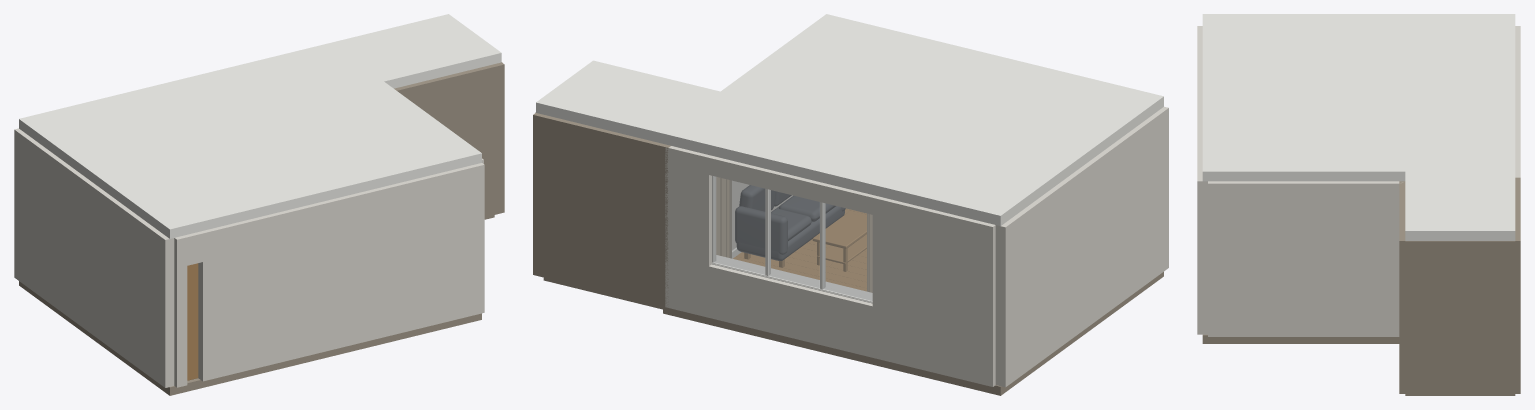
File: homestay.glb
3 renders of one model, left to right at view 1: azimuth 30°, elevation 25°; view 2: azimuth 150°, elevation 25°; view 3: azimuth 270°, elevation 25°, orthographic. The views are drawn at different scales.
Visible parts, largest first — view 1: SM_Ceiling_Main, SM_Wall_South_Main, SM_Wall_West, SM_Ceiling_Bath, SM_Bath_Side_Wall, SM_Subfloor, SM_Wall_South_Door_Left, SM_Wall_South_Door_Header, SM_Entry_Door; view 2: SM_Ceiling_Main, SM_Wall_West, SM_Bath_Side_Wall.001, SM_Wall_North_Left, SM_Ceiling_Bath, SM_Wall_North_Sill, SM_Wall_North_Right, SM_Window_Glass.001, SM_Window_Glass.002, SM_Window_Glass, SM_Subfloor, SM_Wall_North_Lintel (+10 smaller); view 3: SM_Ceiling_Main, SM_Wall_East_Main, SM_Bath_Back_Wall, SM_Ceiling_Bath, SM_Wall_South_Main, SM_Bath_Side_Wall, SM_Subfloor, SM_Bath_Side_Wall.001, SM_Wall_North_Lintel, SM_Wall_North_Left.
Boxes of the visible parts, left/top/right/bottom form: SM_Ceiling_Main: left=19, top=44, right=481, bottom=238; SM_Wall_South_Main: left=198, top=163, right=484, bottom=381; SM_Wall_West: left=14, top=128, right=174, bottom=387; SM_Ceiling_Bath: left=323, top=14, right=501, bottom=88; SM_Bath_Side_Wall: left=394, top=62, right=504, bottom=217; SM_Subfloor: left=19, top=281, right=481, bottom=395; SM_Wall_South_Door_Left: left=174, top=235, right=187, bottom=387; SM_Wall_South_Door_Header: left=185, top=222, right=242, bottom=265; SM_Entry_Door: left=187, top=263, right=198, bottom=380; SM_Ceiling_Main: left=663, top=14, right=1163, bottom=225; SM_Wall_West: left=995, top=106, right=1168, bottom=387; SM_Bath_Side_Wall.001: left=533, top=113, right=670, bottom=306; SM_Wall_North_Left: left=872, top=195, right=995, bottom=386; SM_Ceiling_Bath: left=536, top=60, right=727, bottom=145; SM_Wall_North_Sill: left=709, top=264, right=872, bottom=357; SM_Wall_North_Right: left=665, top=146, right=711, bottom=317; SM_Window_Glass.001: left=768, top=190, right=819, bottom=288; SM_Window_Glass.002: left=714, top=176, right=764, bottom=274; SM_Window_Glass: left=823, top=203, right=872, bottom=300; SM_Subfloor: left=663, top=272, right=1163, bottom=395; SM_Wall_North_Lintel: left=709, top=156, right=874, bottom=214; SM_Ceiling_Main: left=1202, top=14, right=1515, bottom=181; SM_Wall_East_Main: left=1208, top=181, right=1402, bottom=336; SM_Bath_Back_Wall: left=1405, top=241, right=1515, bottom=394; SM_Ceiling_Bath: left=1405, top=167, right=1515, bottom=240; SM_Wall_South_Main: left=1197, top=41, right=1207, bottom=334; SM_Bath_Side_Wall: left=1399, top=181, right=1405, bottom=393; SM_Subfloor: left=1202, top=334, right=1399, bottom=343; SM_Bath_Side_Wall.001: left=1515, top=177, right=1520, bottom=393; SM_Wall_North_Lintel: left=1515, top=82, right=1520, bottom=158; SM_Wall_North_Left: left=1515, top=26, right=1520, bottom=82.
Size of the model in its own units: 8.61 by 3.15 by 5.36.
